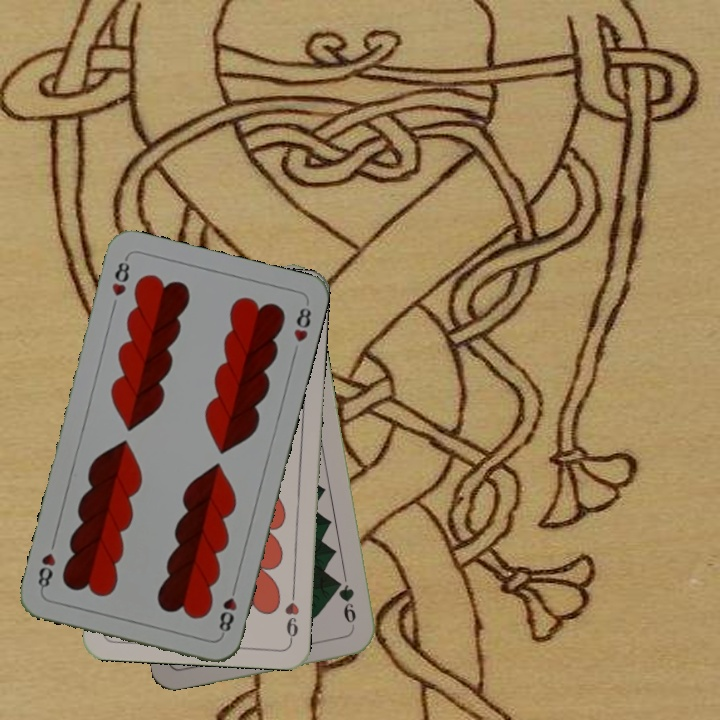G9: (331, 575, 359, 633)
H8: (215, 580, 240, 638), (107, 253, 133, 299)
H9: (281, 585, 302, 644)
